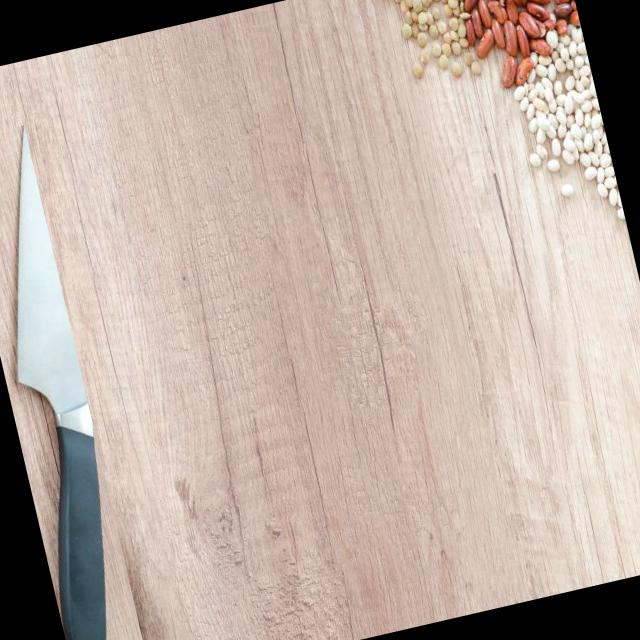Knife: (16, 125, 107, 640)
